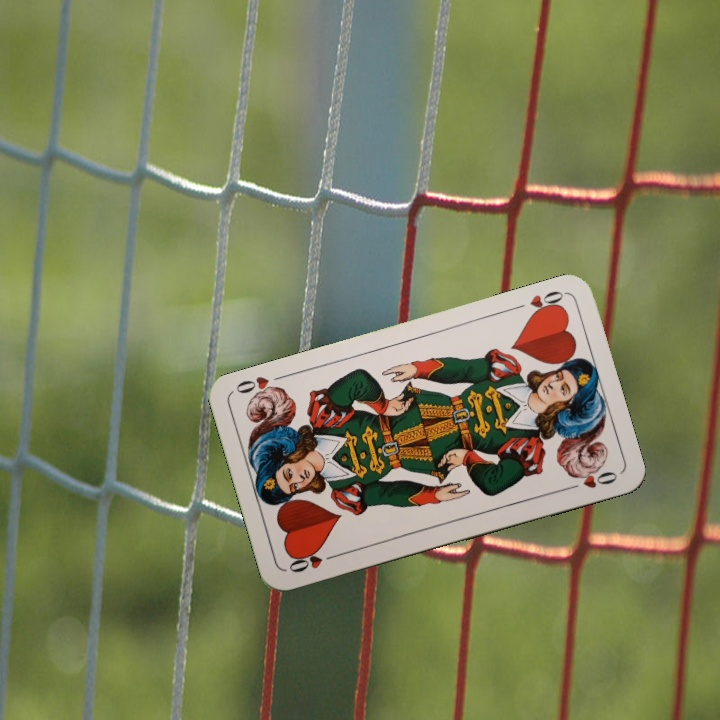HO: (509, 286, 567, 320), (284, 548, 342, 576)
